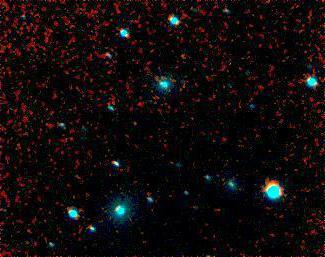star: (167, 39, 197, 69)
